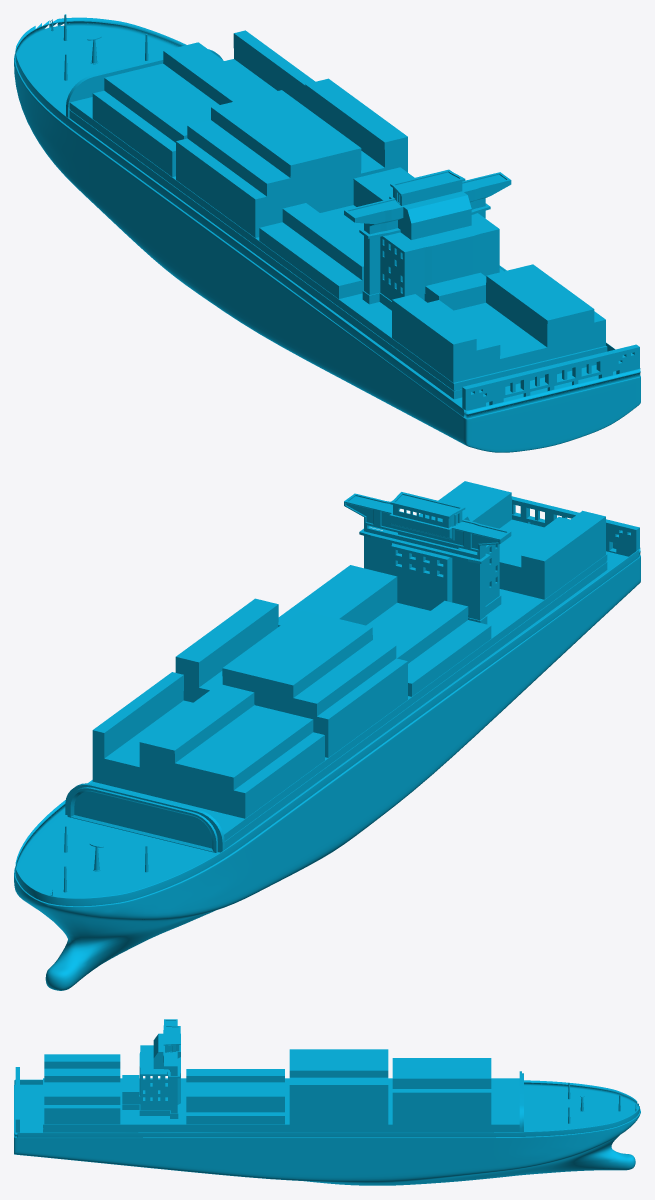
Rendered from shipblue.gltf.
3 renders of one model, top to bottom at view 1: azimuth 30°, elevation 25°; view 2: azimuth 150°, elevation 25°; view 3: azimuth 270°, elevation 25°, orthographic. The views are drawn at different scales.
Visible parts, largest first — view 1: obj01, obj02, Line002, Line004, Line003, Line001; view 2: obj01, obj02, Line003, Line002, Line001, Line004; view 3: obj01, obj02, Line002, Line003, Line001, Line004.
Boxes of the visible parts, bbox=[...] form: obj01: bbox=[14, 17, 640, 452]; obj02: bbox=[49, 14, 639, 410]; Line002: bbox=[176, 78, 407, 237]; Line004: bbox=[392, 264, 605, 382]; Line003: bbox=[92, 30, 315, 176]; Line001: bbox=[259, 167, 414, 298]; obj01: bbox=[14, 518, 640, 990]; obj02: bbox=[48, 492, 639, 895]; Line003: bbox=[92, 672, 324, 818]; Line002: bbox=[175, 598, 407, 757]; Line001: bbox=[278, 565, 491, 696]; Line004: bbox=[398, 481, 605, 599]; obj01: bbox=[14, 1079, 640, 1185]; obj02: bbox=[15, 1019, 638, 1135]; Line002: bbox=[289, 1049, 388, 1124]; Line003: bbox=[392, 1058, 491, 1124]; Line001: bbox=[186, 1069, 284, 1124]; Line004: bbox=[44, 1054, 120, 1124].
Size of the model in its own units: 996 by 1232 by 4960.
